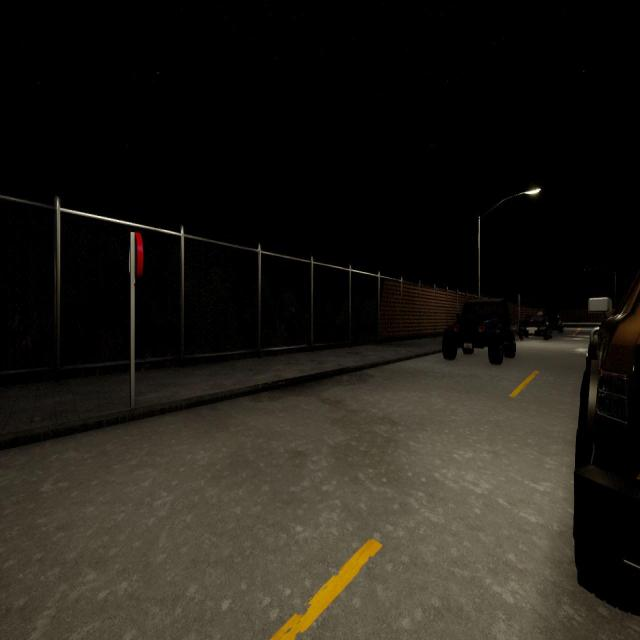Traffic_Signs: (128, 232, 144, 277)
Vehicle: (571, 271, 640, 613), (441, 297, 514, 364), (518, 310, 564, 340)
